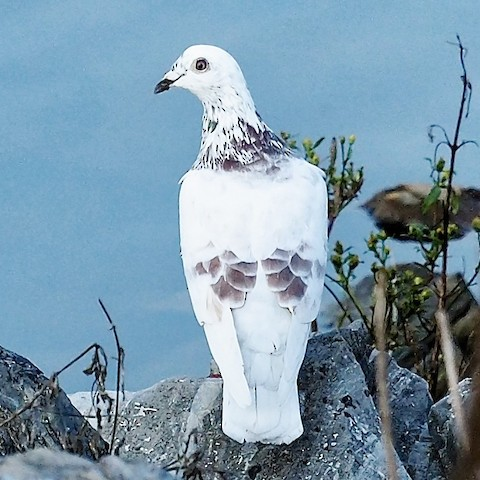pigeon: (147, 40, 334, 456)
